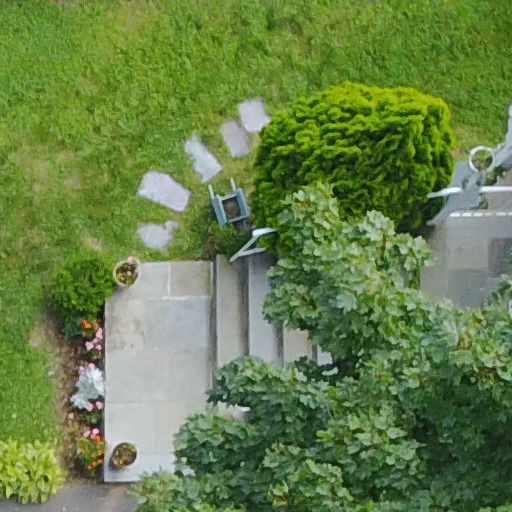flower pot: (102, 239, 157, 293), (107, 435, 142, 476), (469, 143, 505, 181)
